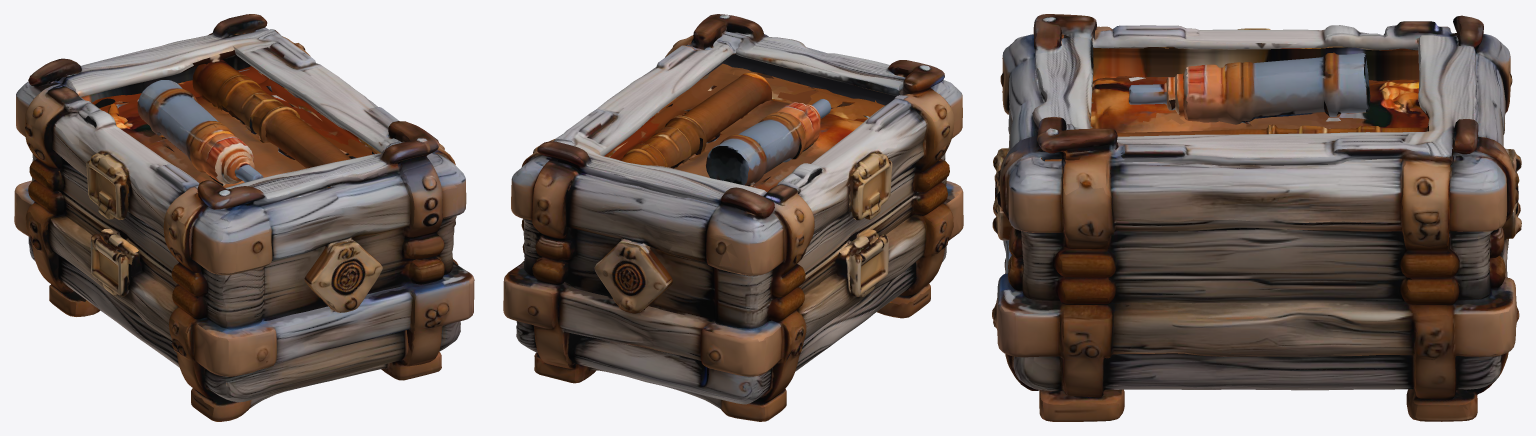
The model's file is ammo_crate.glb.
3 views of the same model, side by side, from view 1: azimuth 30°, elevation 25°; view 2: azimuth 150°, elevation 25°; view 3: azimuth 270°, elevation 25° (orthographic). The views are drawn at different scales.
Visible parts, largest first — view 1: textured_mesh.obj; view 2: textured_mesh.obj; view 3: textured_mesh.obj.
Boxes of the visible parts, x1,y1,x2,y2 form: textured_mesh.obj: [14, 14, 474, 421]; textured_mesh.obj: [503, 14, 963, 421]; textured_mesh.obj: [992, 14, 1521, 421].
Size of the model in its own units: 1.47 by 1.18 by 1.98.
1 material, 1 textured.
